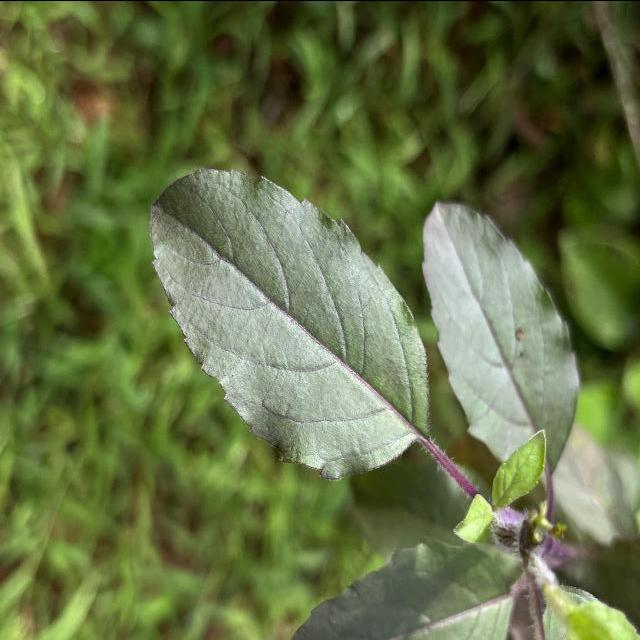Ocimum tenuiflorum: (140, 154, 436, 488)
